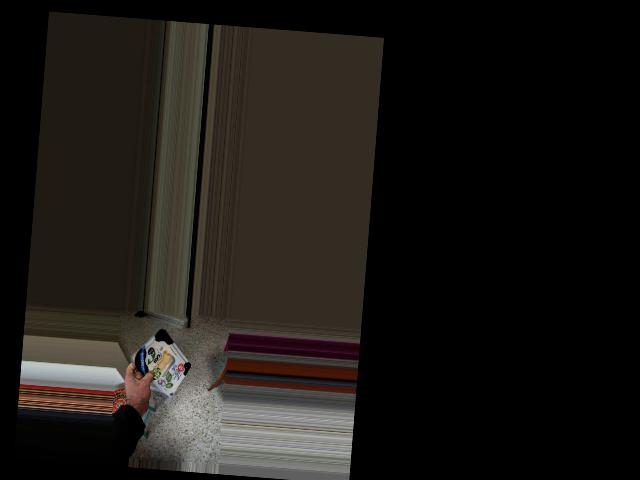cheese: (116, 334, 196, 388)
